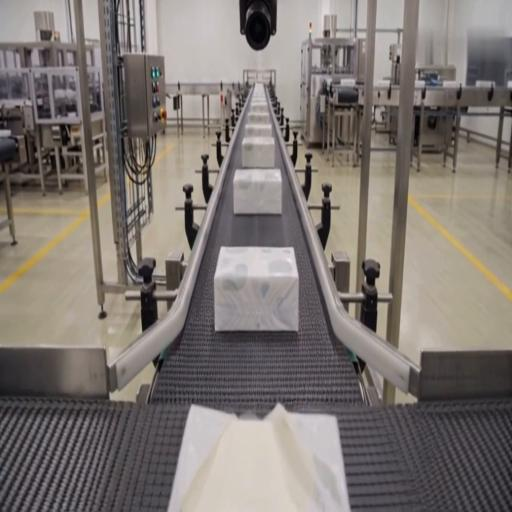defective: (169, 400, 348, 512), (214, 246, 298, 333)
good: (232, 168, 284, 216), (240, 136, 277, 169), (243, 117, 272, 139), (246, 108, 270, 122), (248, 95, 270, 110), (249, 85, 269, 101)
